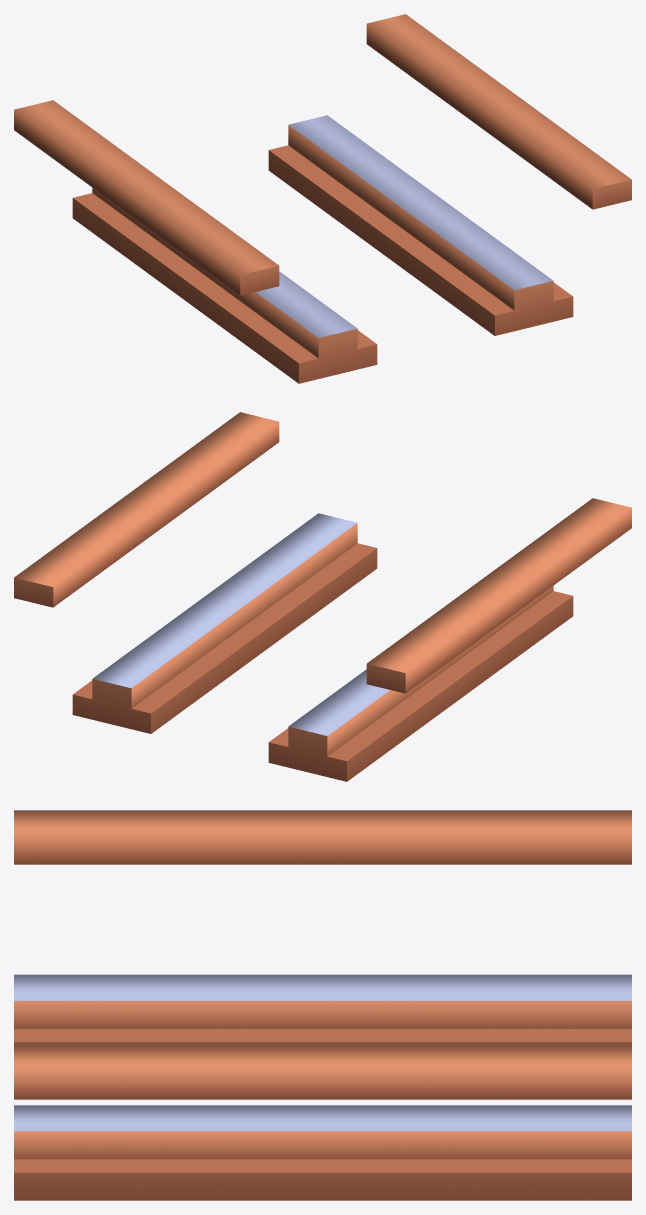
File: coaster-kit--coaster-wood-track.glb
The picture shows the model from 3 angles, top to bottom: view 1: azimuth 30°, elevation 25°; view 2: azimuth 150°, elevation 25°; view 3: azimuth 270°, elevation 25°; orthographic projection. The views are drawn at different scales.
Parts seen in each view (by area): view 1: coaster-wood-track; view 2: coaster-wood-track; view 3: coaster-wood-track.
Boxes of the visible parts, bbox=[...] form: coaster-wood-track: bbox=[14, 14, 631, 383]; coaster-wood-track: bbox=[14, 412, 631, 781]; coaster-wood-track: bbox=[14, 810, 631, 1200].
Bounding box in the file's own units: 1 × 0.3 × 1.
1 material, 1 textured.
